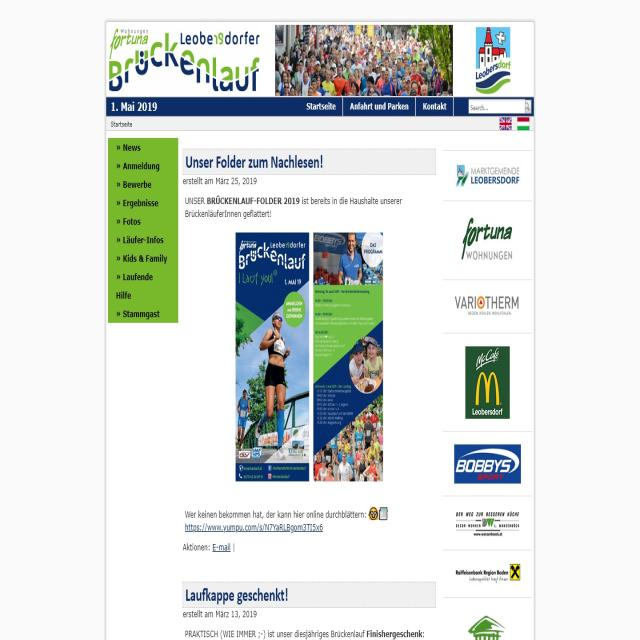button: (342, 98, 414, 115), (302, 93, 343, 118), (115, 156, 162, 175), (116, 305, 164, 323), (116, 230, 166, 247), (416, 96, 453, 118), (117, 252, 169, 266), (115, 178, 162, 192), (116, 195, 162, 209), (115, 214, 165, 226), (116, 269, 158, 282), (115, 136, 145, 154)
field: (468, 99, 532, 115)
heading: (183, 149, 326, 175), (185, 584, 291, 606)
image: (237, 232, 310, 482), (314, 232, 382, 482), (274, 24, 453, 95), (105, 21, 264, 95), (455, 211, 516, 267), (466, 346, 510, 420), (456, 442, 520, 482), (476, 26, 511, 94), (455, 507, 521, 543), (454, 290, 522, 319), (453, 162, 522, 190), (455, 560, 521, 585), (462, 612, 509, 640)
label: (182, 177, 260, 188), (182, 609, 260, 620), (469, 101, 491, 115)
link: (184, 518, 326, 534), (209, 541, 238, 557)
text: (184, 506, 392, 536), (185, 195, 404, 219), (184, 625, 429, 640), (182, 540, 239, 557), (110, 97, 160, 115), (115, 286, 135, 303)
